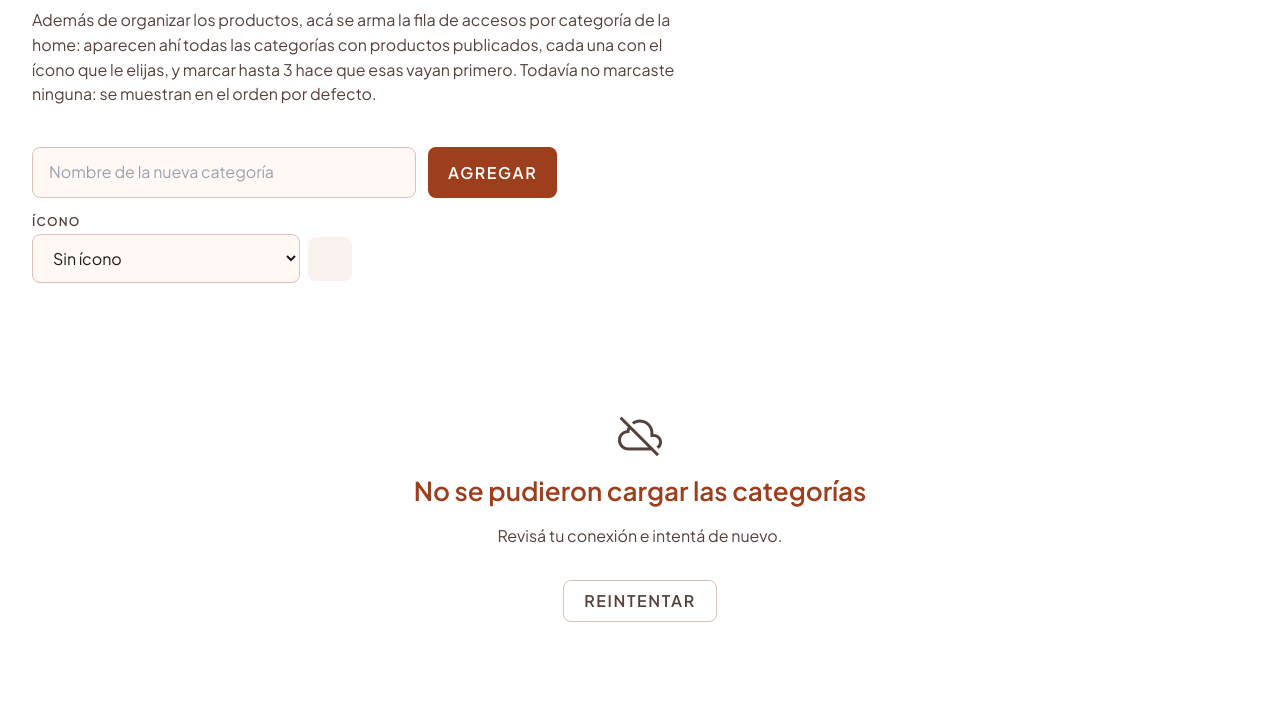
Test: AdminCategorias — el error de carga y el estado vacío son excluyentes › Reintentar vuelve a pedir, y el fetch exitoso limpia el error
This screenshot has width=1280, height=718.
(page scrolled)
Expected: the heading "No se pudieron cargar las categorías" is shown, [414,475,866,508]
Click the button "Reintentar" at [640, 602], box [563,580,717,622]
(page scrolled)
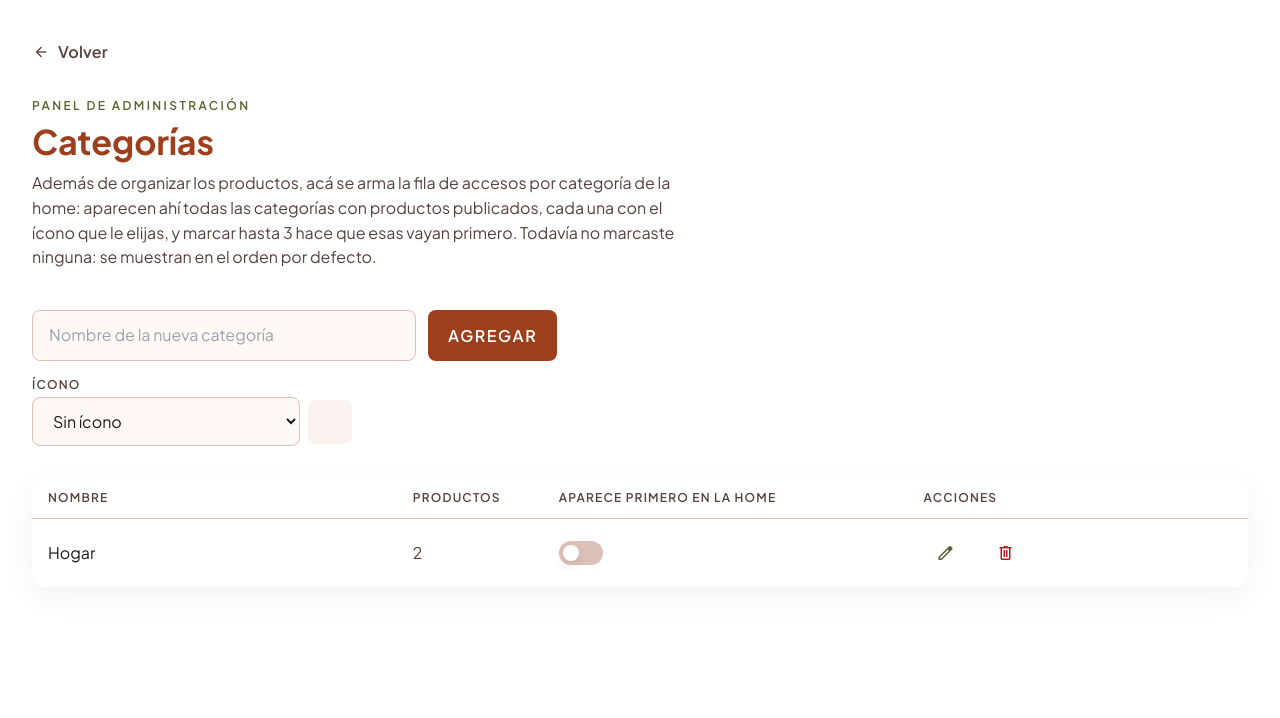
Expected: the text "Hogar" is shown, [32,519,397,587]
Expected: the heading "No se pudieron cargar las categorías" is gone
